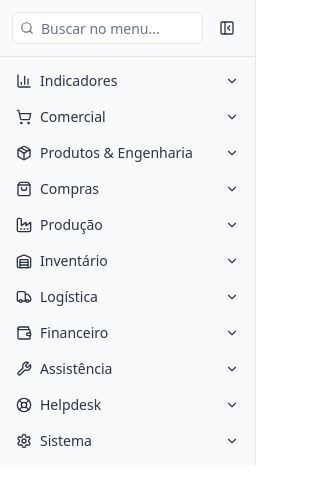
it: GlobalSidebar › search filter narrows visible items
This screenshot has width=320, height=482.
Type "kardex" into the field with placeholder "Buscar no menu…" at {"x": 108, "y": 28}, box [12, 12, 203, 44]
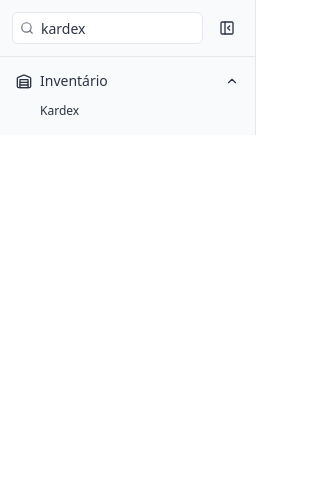
Check: the link "Kardex" is shown, box [40, 102, 79, 119]
